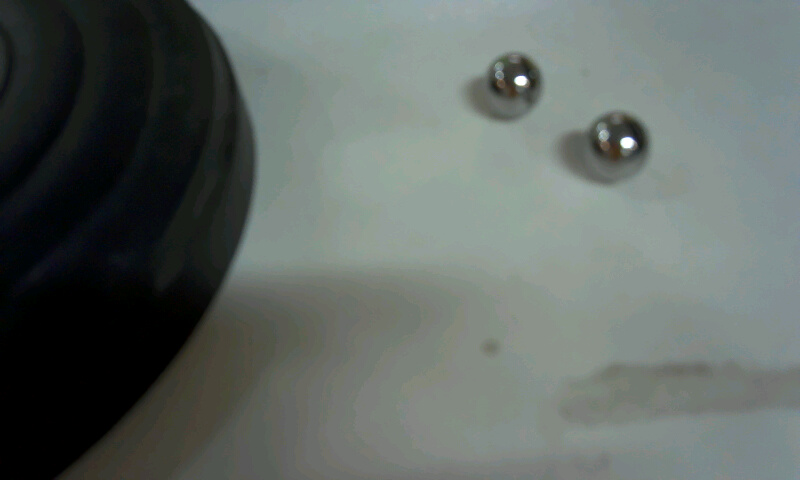steelball: (462, 39, 562, 130), (576, 99, 659, 198)
